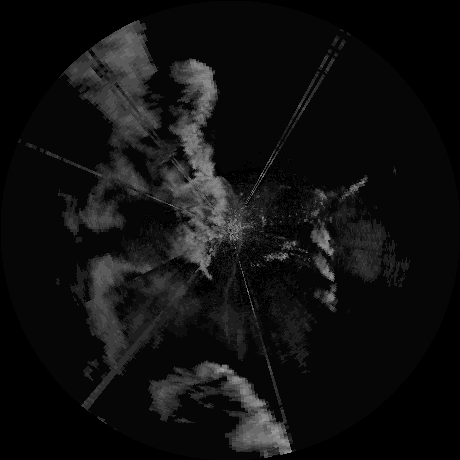frontgust: (219, 240, 242, 336)
